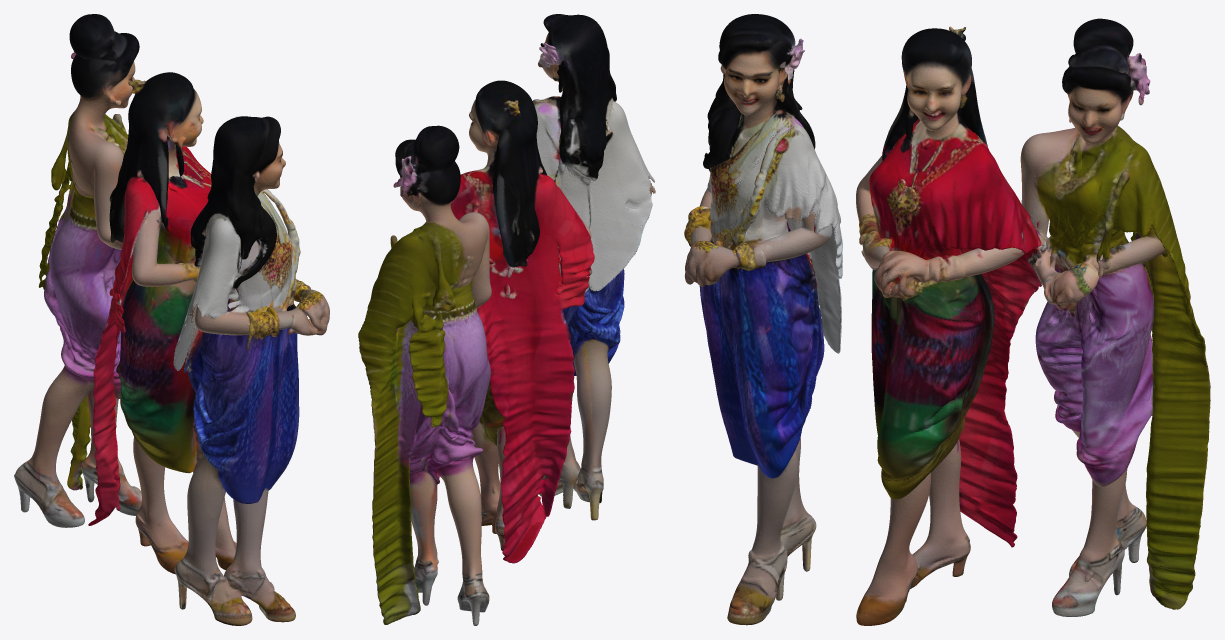
The model's file is dam.glb.
3 views of the same model, side by side, from view 1: azimuth 30°, elevation 25°; view 2: azimuth 150°, elevation 25°; view 3: azimuth 270°, elevation 25° (orthographic). The views are drawn at different scales.
Parts seen in each view (by area): view 1: tripo_node_c9251107-5374-4d10-8673-aec709d48d21; view 2: tripo_node_c9251107-5374-4d10-8673-aec709d48d21; view 3: tripo_node_c9251107-5374-4d10-8673-aec709d48d21.
Part boxes in pixels (<box>): tripo_node_c9251107-5374-4d10-8673-aec709d48d21: <box>14,14,329,625</box>; tripo_node_c9251107-5374-4d10-8673-aec709d48d21: <box>358,14,655,625</box>; tripo_node_c9251107-5374-4d10-8673-aec709d48d21: <box>684,14,1210,625</box>.
Bounding box in the file's own units: 0.3304 × 1 × 0.816.
1 material, 1 textured.
